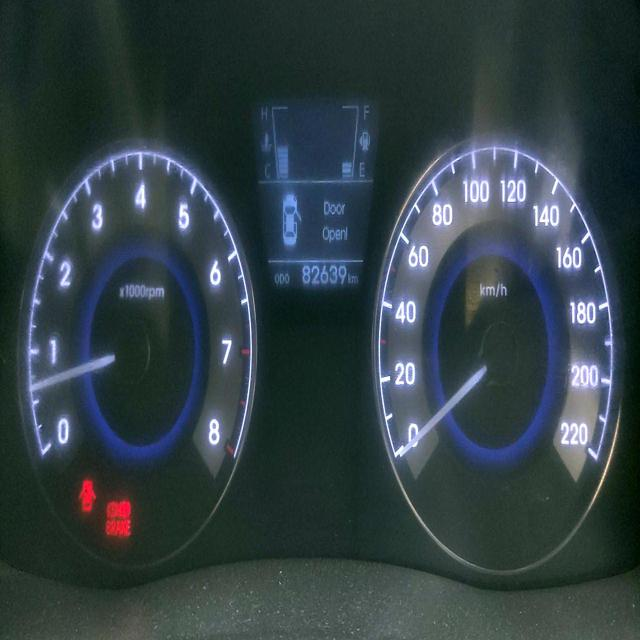odometer: (299, 262, 346, 287)
